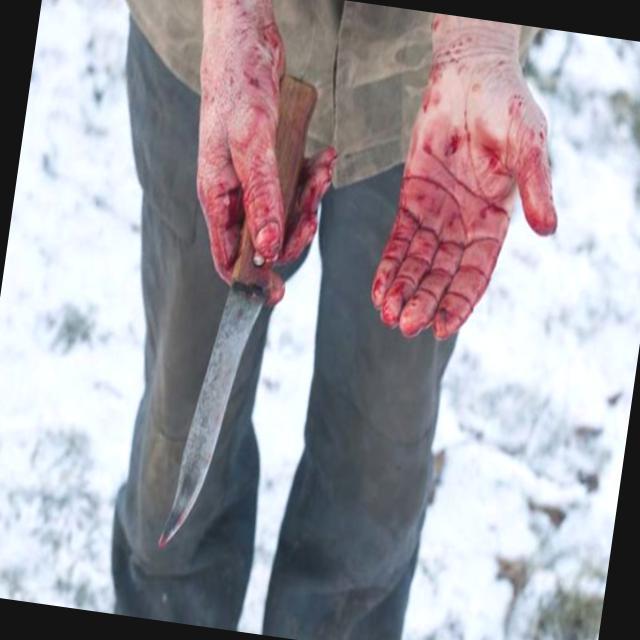knife: (149, 178, 319, 573)
